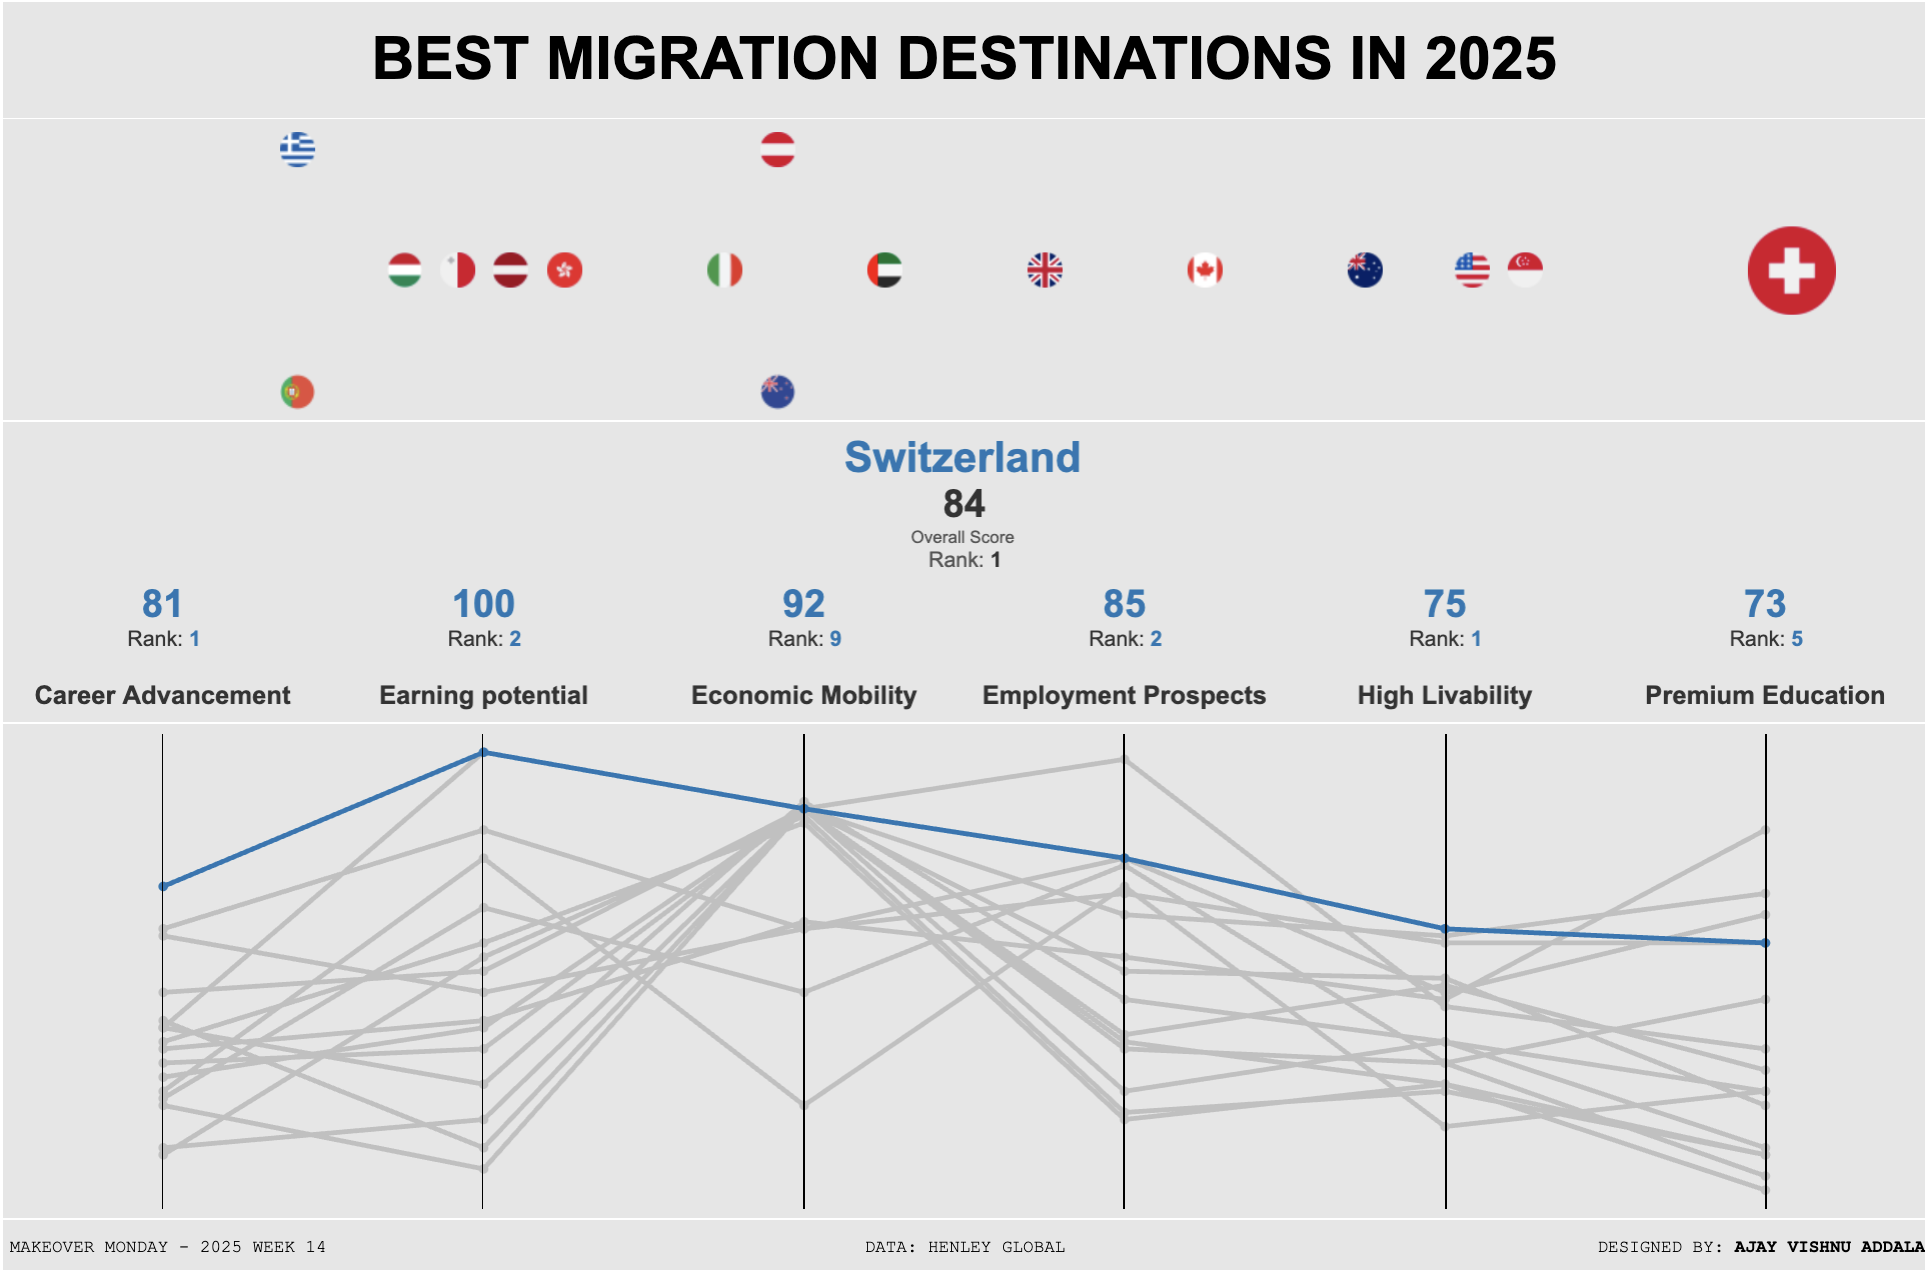

The page's visual inventory and layout, read from the dashboard file:
{"tool":"tableau","page":{"name":"MOM2025 W14","canvas":[1209,800],"ordinal":0},"visuals":[{"type":"text","box":[4,4,1201,70]},{"type":"worksheet","title":"Beeswarm","mark":"Automatic","rows":["y"],"cols":["x"],"box":[4,75.7,1201,188.9]},{"type":"worksheet","title":"Selected","mark":"Automatic","box":[4,264.6,1201,101]},{"type":"worksheet","title":"Numbers","mark":"Automatic","rows":["Country"],"cols":["Pivot Field Names"],"box":[4,365.6,1201,87.9]},{"type":"worksheet","title":"Parallel Coordinates","mark":"Line","rows":["Pivot Field Values"],"cols":["Pivot Field Names"],"box":[4,453.5,1201,310.5]},{"type":"blank","box":[107,461,1,297]},{"type":"blank","box":[306,461,1,297]},{"type":"blank","box":[505,461,1,297]},{"type":"blank","box":[704,461,1,297]},{"type":"blank","box":[902,461,1,297]},{"type":"blank","box":[1102,461,1,297]},{"type":"text","box":[404.3,764,401.7,32]},{"type":"text","box":[806,764,399,32]},{"type":"text","box":[4,765,400.3,31]}]}

Visuals, with their boxes in screenshot pixels (x1, y1, x2, y2), scaled from the page's 1209x800 canvas onto the 1932x1274 screenshot:
text: <bbox>6, 6, 1926, 118</bbox>
"Beeswarm" worksheet: <bbox>6, 121, 1926, 421</bbox>
"Selected" worksheet: <bbox>6, 421, 1926, 582</bbox>
"Numbers" worksheet: <bbox>6, 582, 1926, 722</bbox>
"Parallel Coordinates" worksheet (Line marks): <bbox>6, 722, 1926, 1217</bbox>
blank: <bbox>171, 734, 173, 1207</bbox>
blank: <bbox>489, 734, 491, 1207</bbox>
blank: <bbox>807, 734, 809, 1207</bbox>
blank: <bbox>1125, 734, 1127, 1207</bbox>
blank: <bbox>1441, 734, 1443, 1207</bbox>
blank: <bbox>1761, 734, 1763, 1207</bbox>
text: <bbox>646, 1217, 1288, 1268</bbox>
text: <bbox>1288, 1217, 1926, 1268</bbox>
text: <bbox>6, 1218, 646, 1268</bbox>
